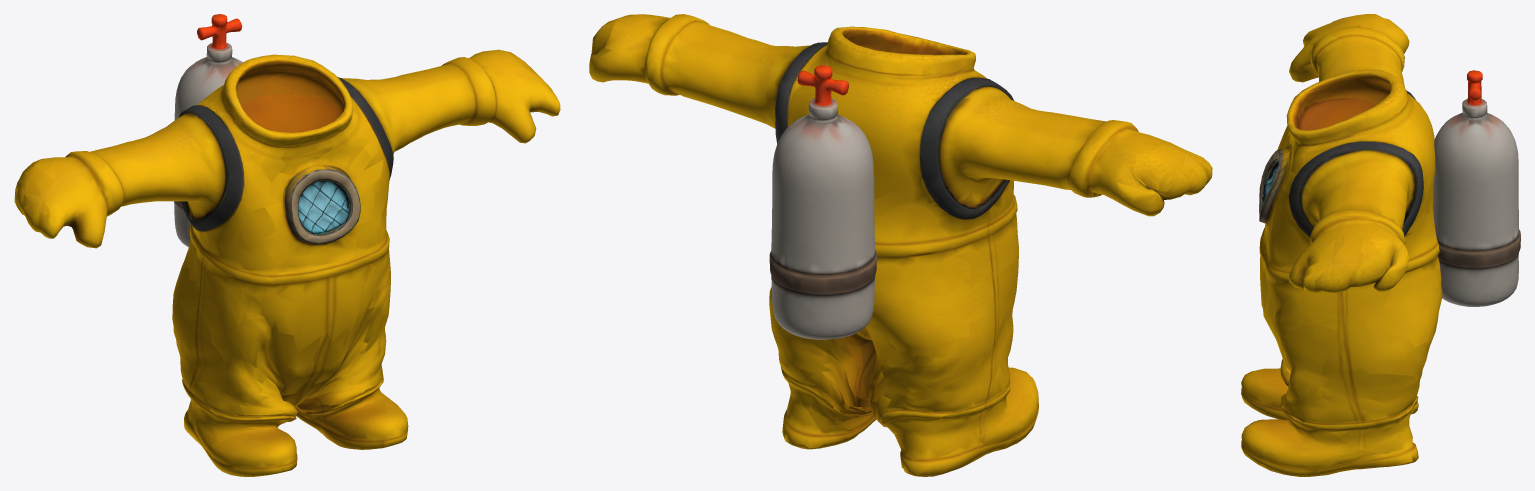
The model's file is Scuba.glb.
The picture shows the model from 3 angles, left to right: view 1: azimuth 30°, elevation 25°; view 2: azimuth 150°, elevation 25°; view 3: azimuth 270°, elevation 25°; orthographic projection. The views are drawn at different scales.
Parts seen in each view (by area): view 1: Scuba; view 2: Scuba; view 3: Scuba.
Part boxes in pixels (x1,y1,x2,y2): Scuba: (14, 14, 560, 476); Scuba: (589, 14, 1212, 476); Scuba: (1241, 14, 1520, 476).
Bounding box in the file's own units: 0.9957 × 0.677 × 0.47.
2 materials, 2 textured.
